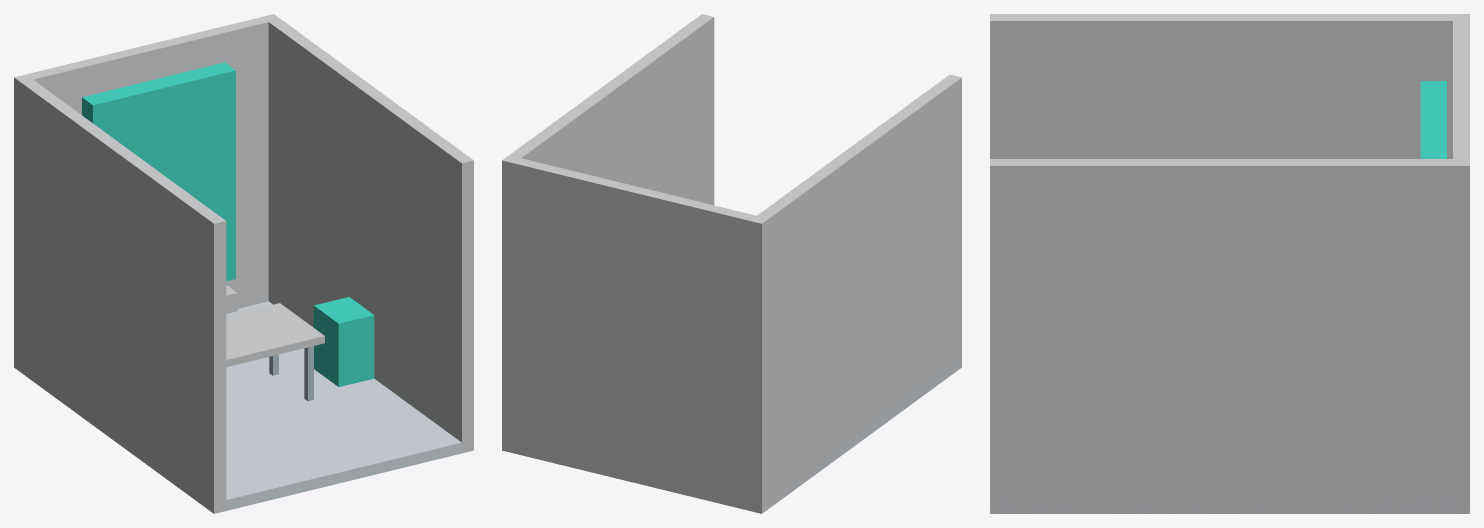
3 views of the same model, side by side, from view 1: azimuth 30°, elevation 25°; view 2: azimuth 150°, elevation 25°; view 3: azimuth 270°, elevation 25° (orthographic). The views are drawn at different scales.
Visible parts, largest first — view 1: Exhibition Booth Concept; view 2: Exhibition Booth Concept; view 3: Exhibition Booth Concept.
Boxes of the visible parts, left/top/right/bottom form: Exhibition Booth Concept: left=14, top=14, right=473, bottom=513; Exhibition Booth Concept: left=502, top=14, right=961, bottom=513; Exhibition Booth Concept: left=990, top=14, right=1469, bottom=513.
Bounding box in the file's own units: 3 × 3.2 × 4.
